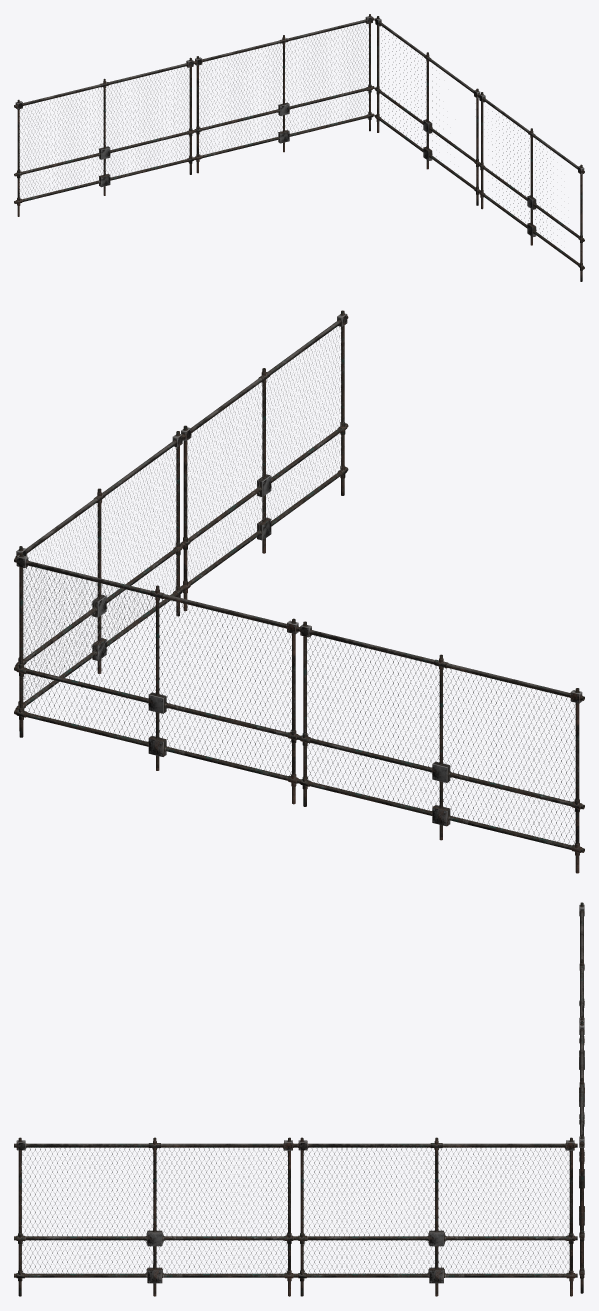
Rendered from Fence.fbx.
The picture shows the model from 3 angles, top to bottom: view 1: azimuth 30°, elevation 25°; view 2: azimuth 150°, elevation 25°; view 3: azimuth 270°, elevation 25°; orthographic projection. The views are drawn at different scales.
Visible parts, largest first — view 1: Fance, Fance_1, Fance_3, Fance_2; view 2: Fance, Fance_1, Fance_3, Fance_2; view 3: Fance_3, Fance_2, Fance_1, Fance.
Part boxes in pixels (x1,y1,x2,y2): Fance: [14, 57, 194, 216]; Fance_1: [194, 14, 374, 173]; Fance_3: [478, 92, 584, 281]; Fance_2: [374, 16, 480, 205]; Fance: [298, 621, 584, 873]; Fance_1: [14, 552, 299, 804]; Fance_3: [181, 310, 348, 610]; Fance_2: [15, 431, 183, 730]; Fance_3: [14, 1137, 295, 1296]; Fance_2: [295, 1137, 577, 1296]; Fance_1: [579, 1021, 584, 1293]; Fance: [579, 902, 584, 1156].
Size of the model in its own units: 1138 by 350 by 1149.
1 material, 1 textured.
